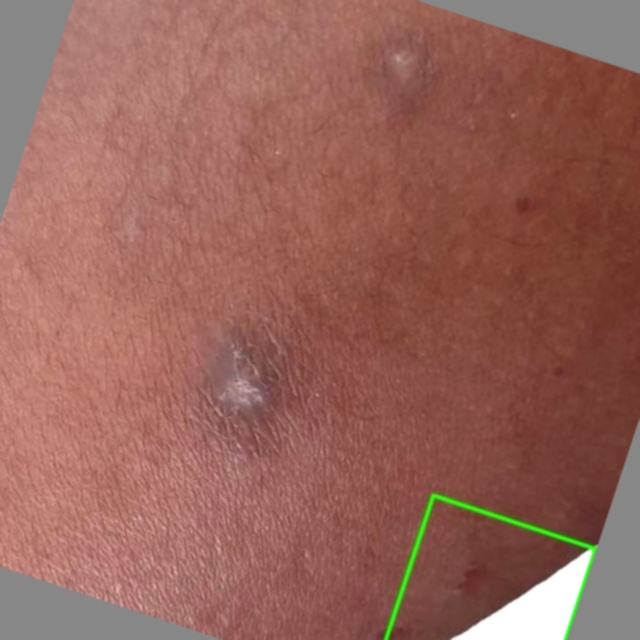Scabies: (386, 495, 595, 639)
